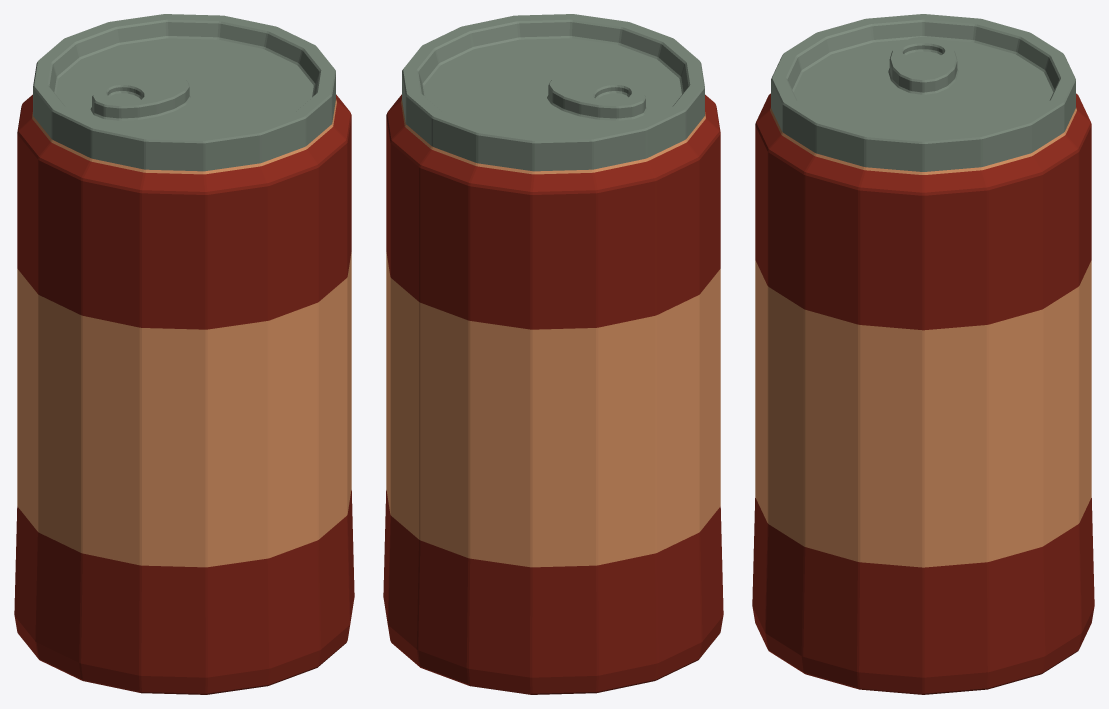
File: Can_8_Partyassets.fbx
3 views of the same model, side by side, from view 1: azimuth 30°, elevation 25°; view 2: azimuth 150°, elevation 25°; view 3: azimuth 270°, elevation 25° (orthographic).
Visible parts, largest first — view 1: Can_8_Partyassets; view 2: Can_8_Partyassets; view 3: Can_8_Partyassets.
Boxes of the visible parts, x1,y1,x2,y2 form: Can_8_Partyassets: (14,14,354,694); Can_8_Partyassets: (383,14,723,694); Can_8_Partyassets: (752,14,1094,694).
Bounding box in the file's own units: 6.78 × 11.95 × 6.78.
